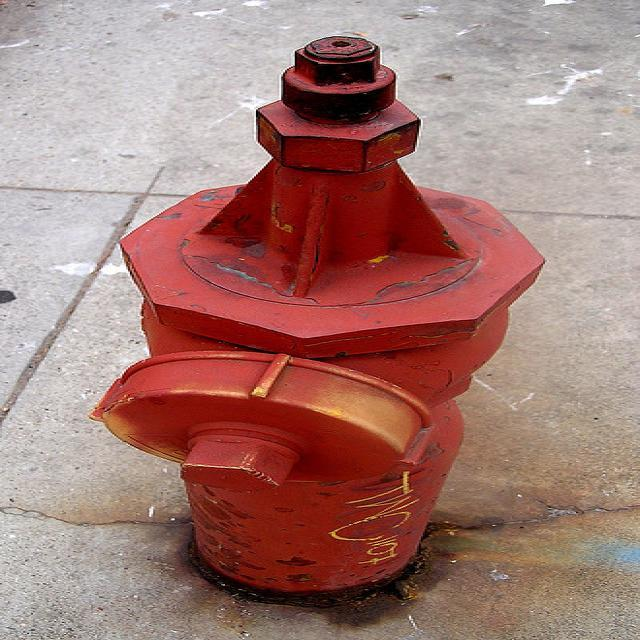fire_hydrant: (91, 32, 547, 593)
